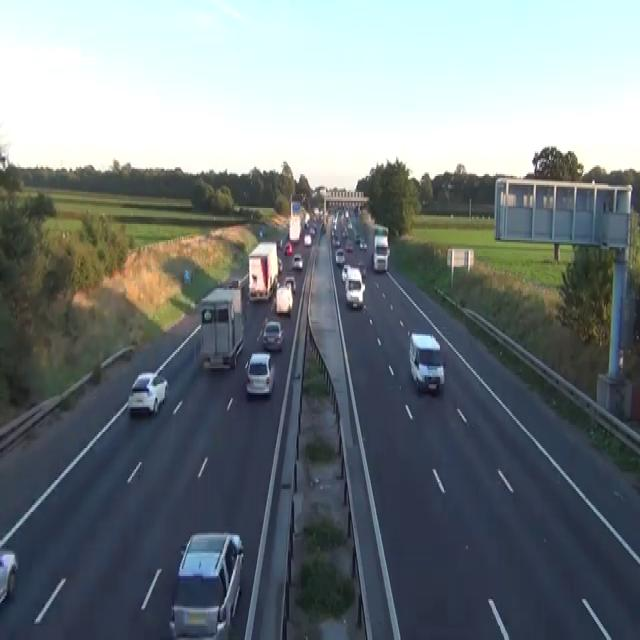Car: (168, 530, 244, 638), (168, 576, 225, 638), (127, 372, 168, 416), (244, 352, 275, 396), (0, 549, 17, 608), (262, 320, 283, 350), (373, 224, 388, 245), (284, 276, 296, 294), (341, 263, 350, 285), (335, 247, 345, 265), (292, 252, 303, 268), (357, 262, 366, 278), (284, 242, 292, 256), (183, 268, 191, 282), (359, 238, 367, 249), (345, 240, 353, 251), (304, 233, 311, 245), (277, 256, 282, 272), (332, 237, 340, 247), (303, 220, 309, 230), (309, 226, 316, 234), (321, 222, 326, 233), (355, 233, 361, 242), (347, 220, 352, 230), (342, 228, 348, 236), (277, 238, 282, 247), (259, 230, 262, 238)
Truck: (199, 284, 244, 370), (408, 331, 444, 393), (247, 242, 278, 300), (371, 224, 390, 272), (344, 266, 365, 308), (289, 199, 301, 242), (275, 284, 292, 314)
